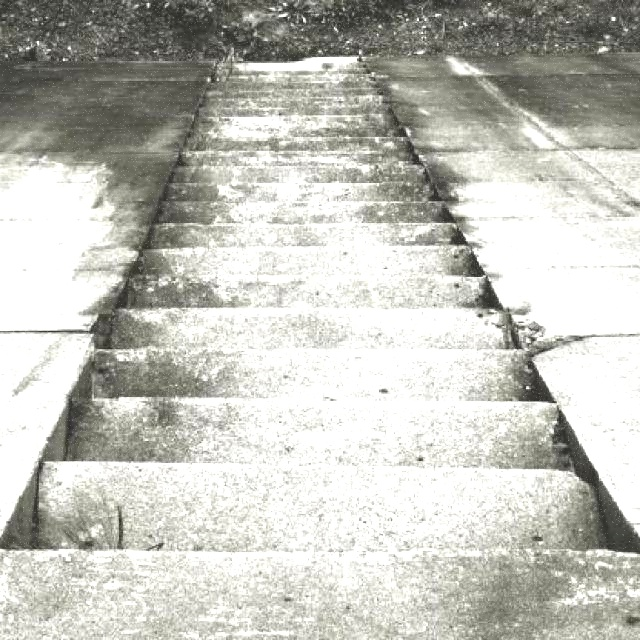stair: (0, 54, 640, 640)
